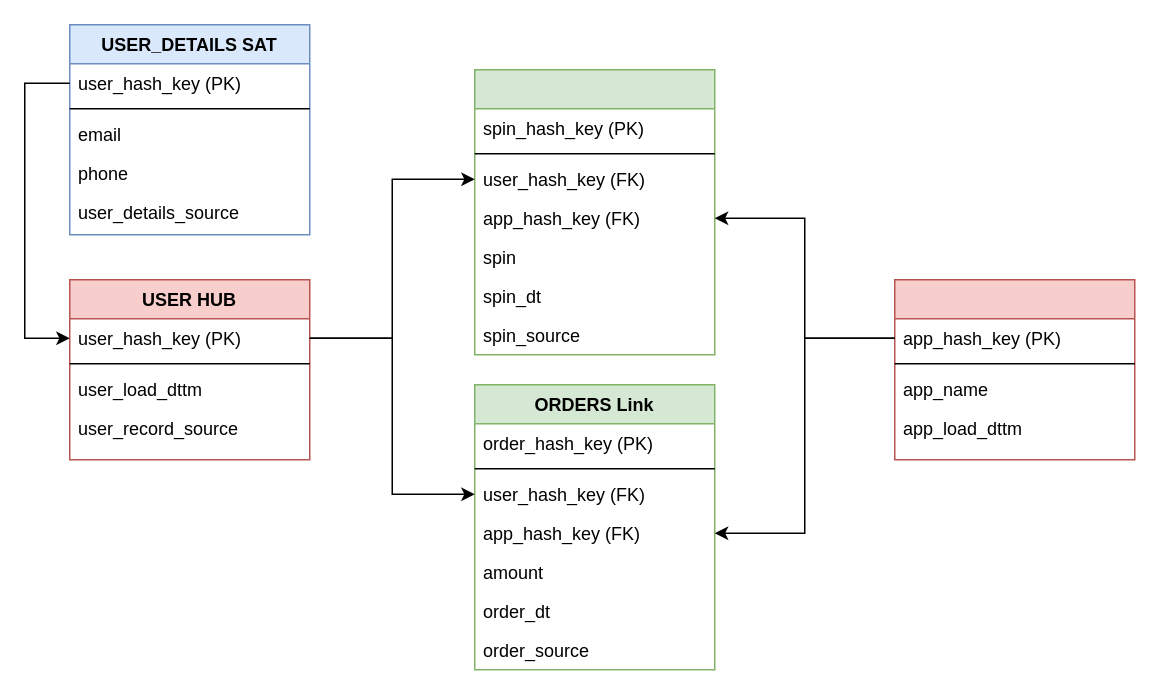
Some shapes in this 1160 by 695 pixel diagram are drawn without their labels. The shapes that lost their labels are listed below. From the top down, each one's box as (x1, y1, x2, y2) in pixels, then its label:
(473, 68, 715, 355): SPINS Link
(893, 278, 1135, 460): APP HUB
